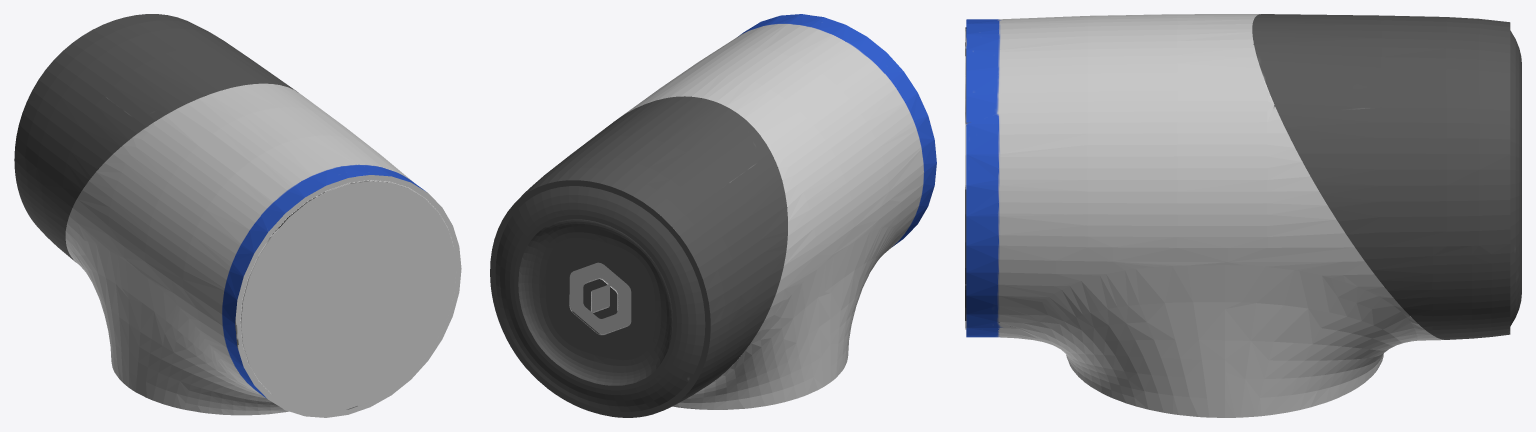
3 renders of one model, left to right at view 1: azimuth 30°, elevation 25°; view 2: azimuth 150°, elevation 25°; view 3: azimuth 270°, elevation 25°, orthographic. The views are drawn at different scales.
Visible parts, largest first — view 1: Link4; view 2: Link4; view 3: Link4.
Part boxes in pixels (<box>): Link4: <box>14,14,461,417</box>; Link4: <box>490,14,936,417</box>; Link4: <box>965,14,1521,417</box>.
Size of the model in its own units: 0.0848 by 0.1435 by 0.0914.
